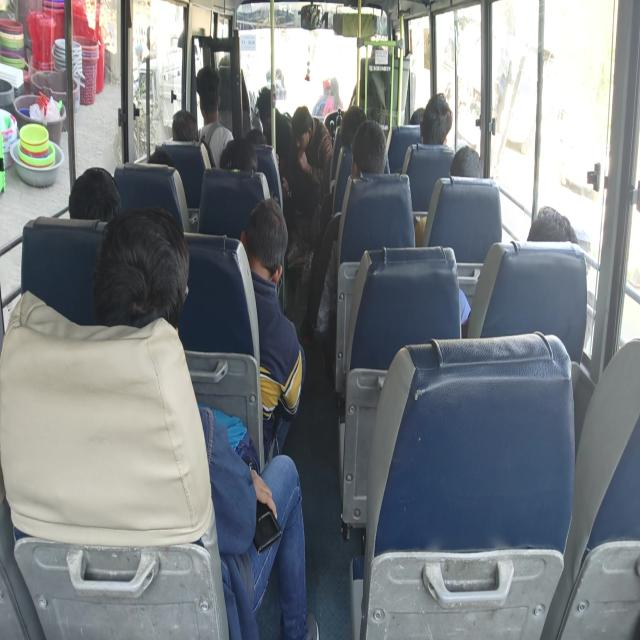person: (92, 205, 320, 638), (303, 119, 390, 348), (239, 197, 306, 466), (459, 205, 579, 336), (418, 144, 484, 330), (195, 65, 234, 168), (291, 105, 332, 187), (68, 166, 122, 222), (526, 205, 578, 244), (419, 92, 453, 146), (219, 137, 258, 171), (340, 104, 367, 148), (449, 145, 484, 178), (171, 109, 198, 142), (322, 76, 342, 115), (274, 68, 286, 100)
